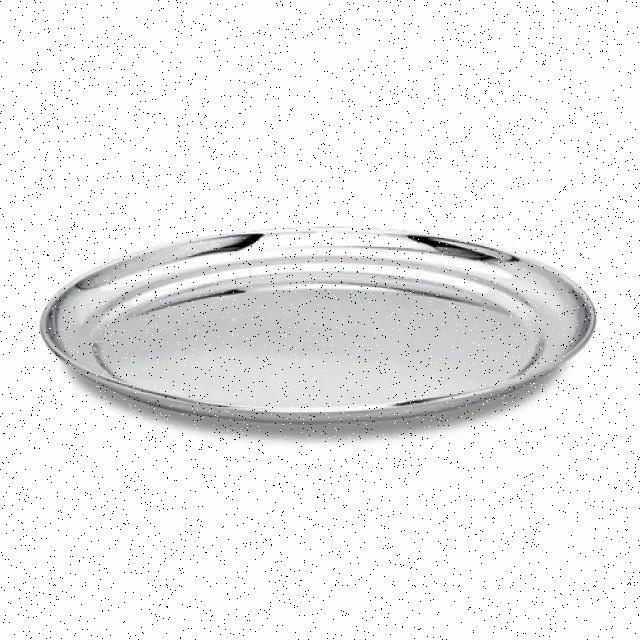plate: (29, 205, 618, 433)
